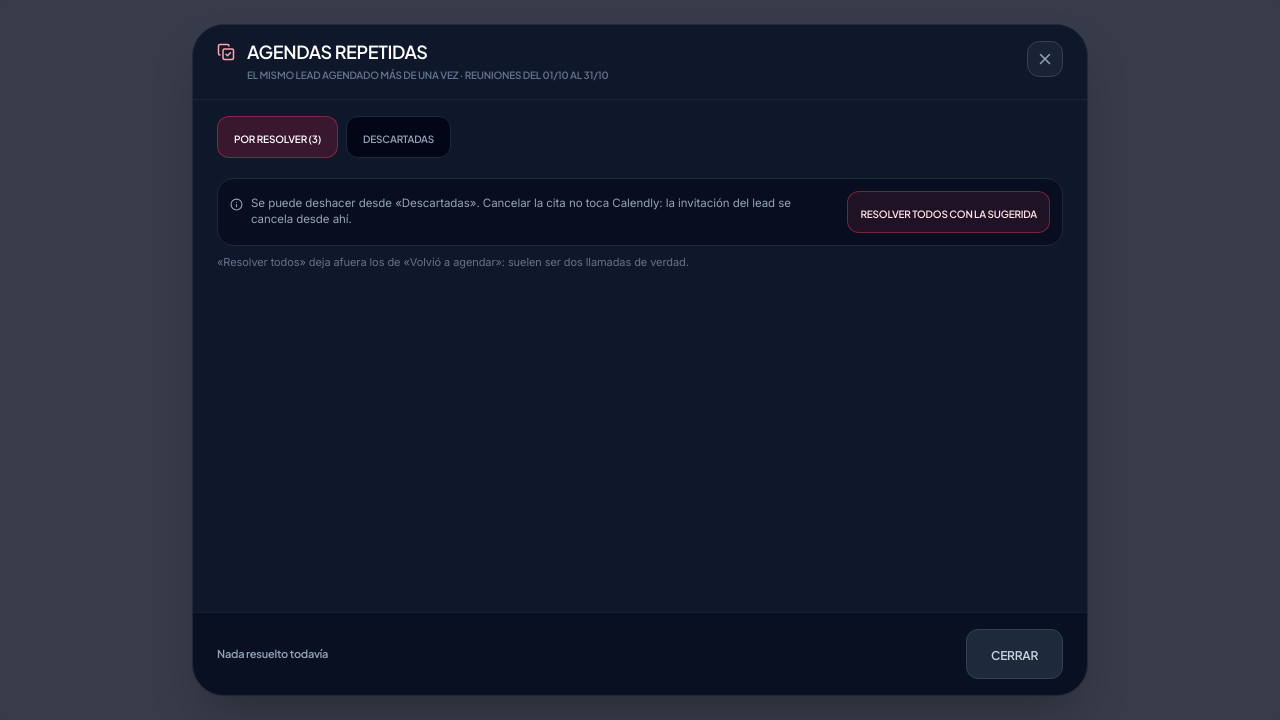
Scenario: Duplicados · el panel › «Resolver todos con la sugerida» pide confirmación y deja afuera los de «Volvió a agendar»
This screenshot has width=1280, height=720.
Click the button "Resolver todos con la sugerida": (949, 212) [847,190,1050,232]
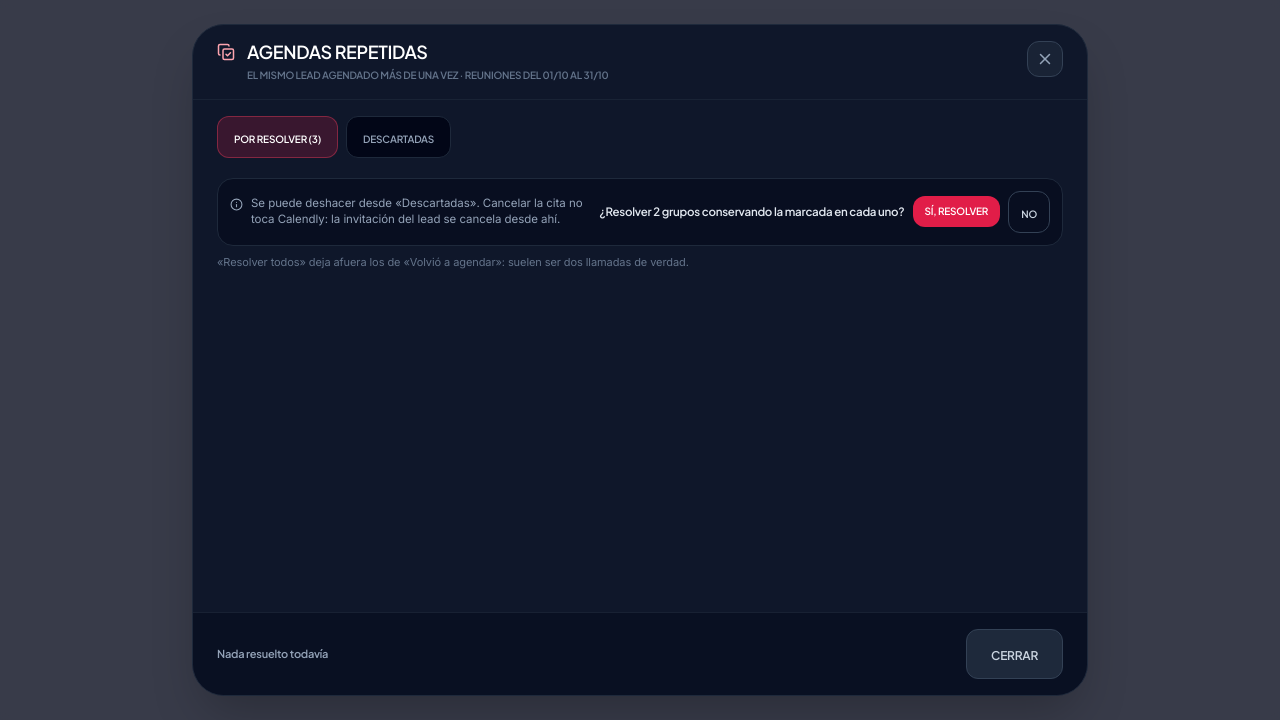
Now the text "¿Resolver 2 grupos conservando la marcada en cada uno?" is shown, box [599,203,904,220]
Click the button "Sí, resolver": (956, 212) [912,196,1000,227]
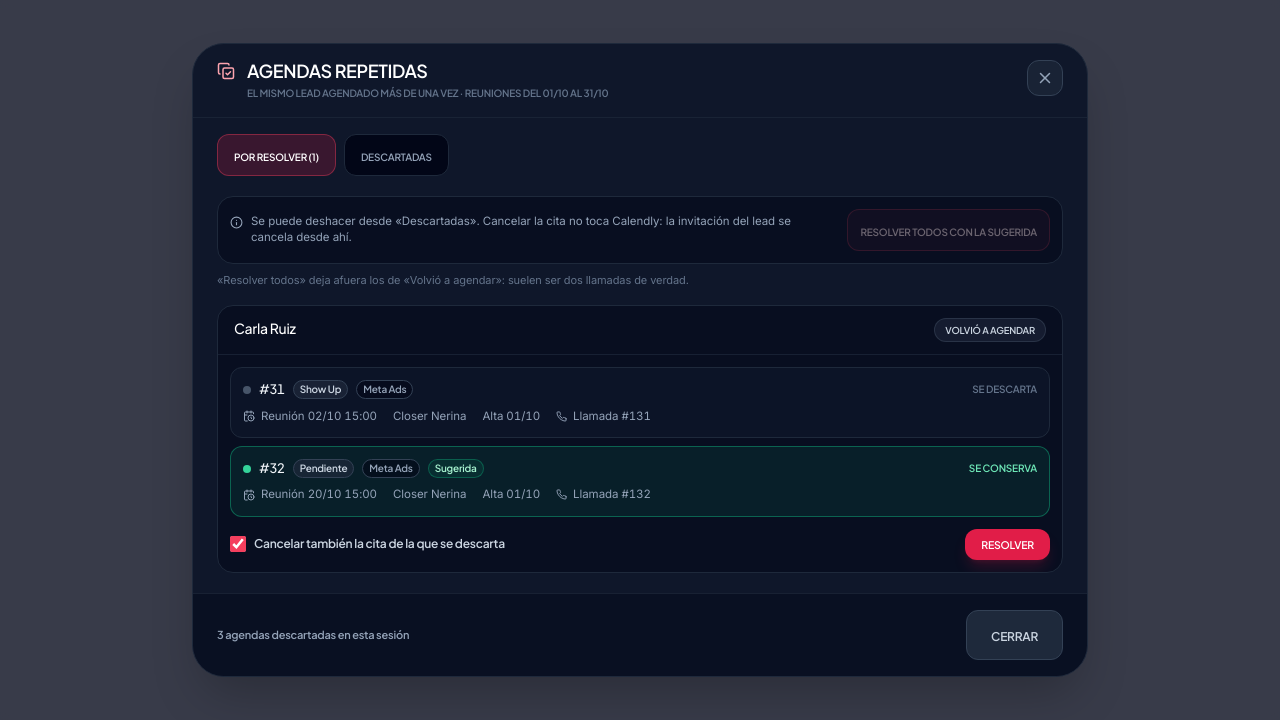
Now the element named "Grupo de Carla Ruiz" is shown, box [217,305,1063,573]
